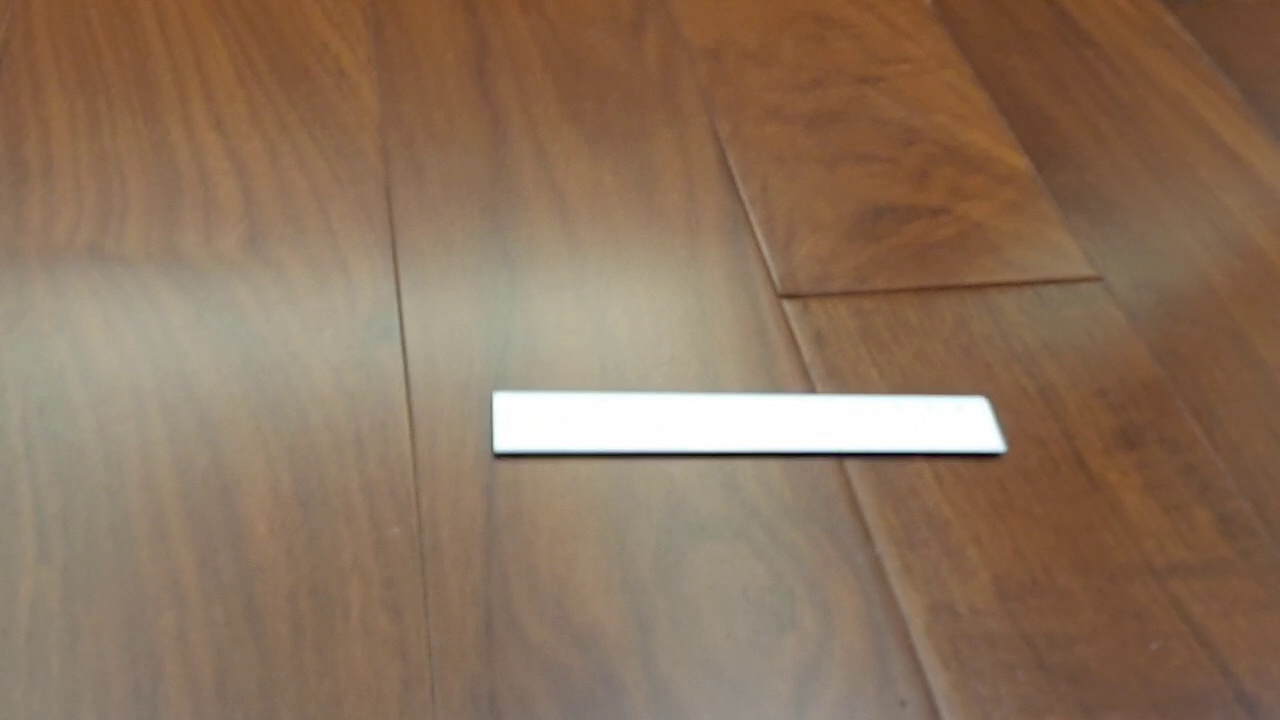ruler: (490, 388, 1010, 458)
